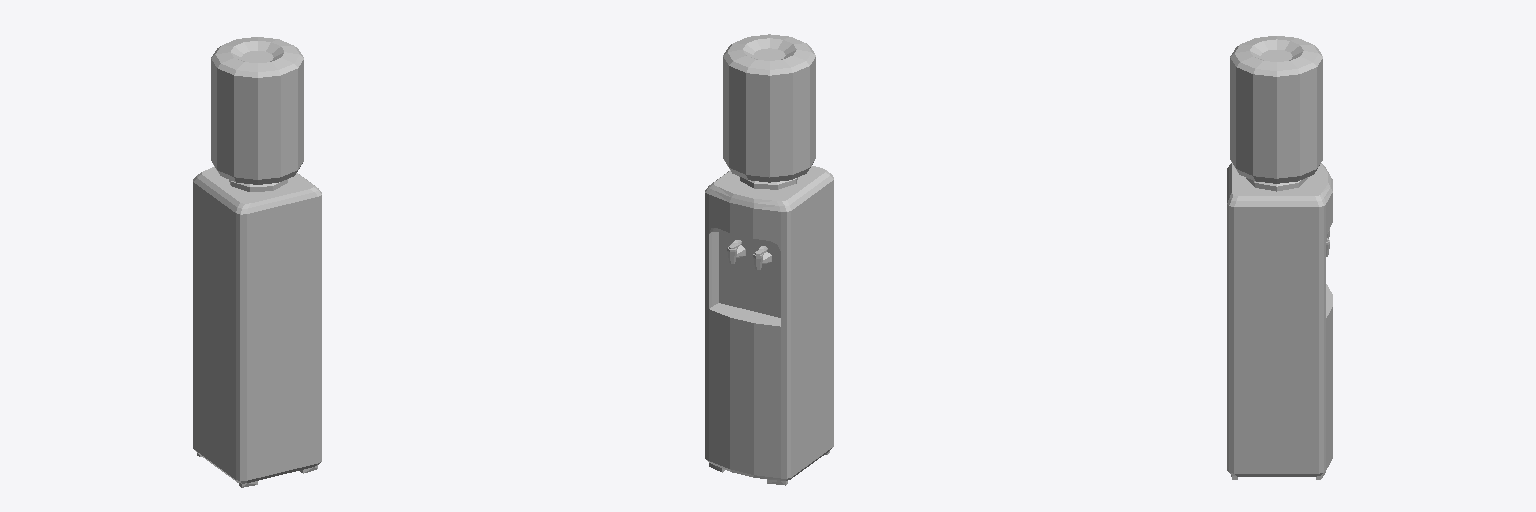
File: WaterCooler.obj
The picture shows the model from 3 angles: view 1: azimuth 30°, elevation 25°; view 2: azimuth 150°, elevation 25°; view 3: azimuth 270°, elevation 25°; orthographic projection.
Parts seen in each view (by area): view 1: WaterCooler, Bottle; view 2: WaterCooler, Bottle; view 3: WaterCooler, Bottle.
Part boxes in pixels (left/top/right/bottom): WaterCooler: left=193, top=166, right=321, bottom=487; Bottle: left=211, top=37, right=303, bottom=184; WaterCooler: left=705, top=166, right=833, bottom=485; Bottle: left=723, top=34, right=815, bottom=182; WaterCooler: left=1227, top=163, right=1332, bottom=479; Bottle: left=1230, top=36, right=1322, bottom=183.
Bounding box in the file's own units: 3.01 × 13.71 × 3.21.